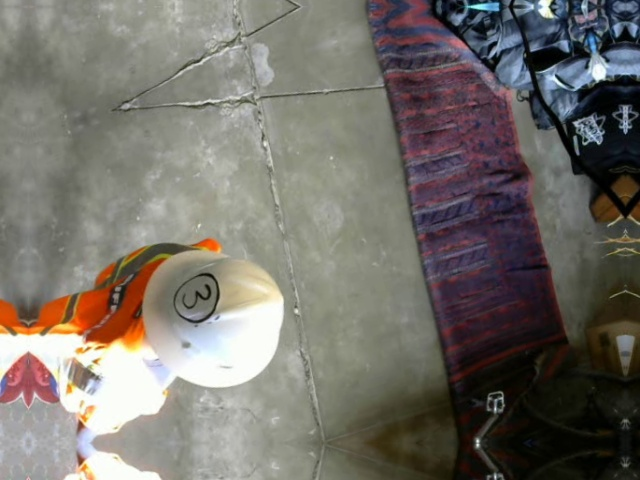three: (168, 267, 226, 329)
